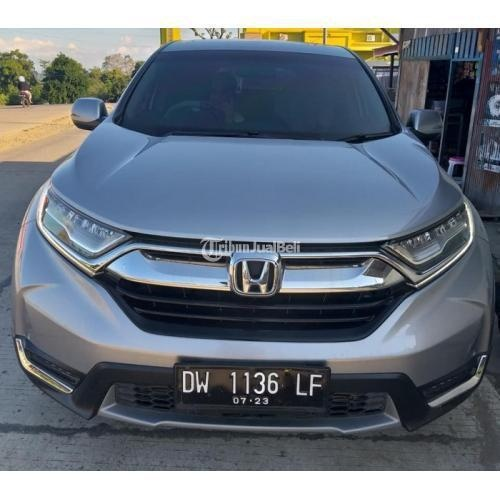plate: (177, 365, 328, 411)
